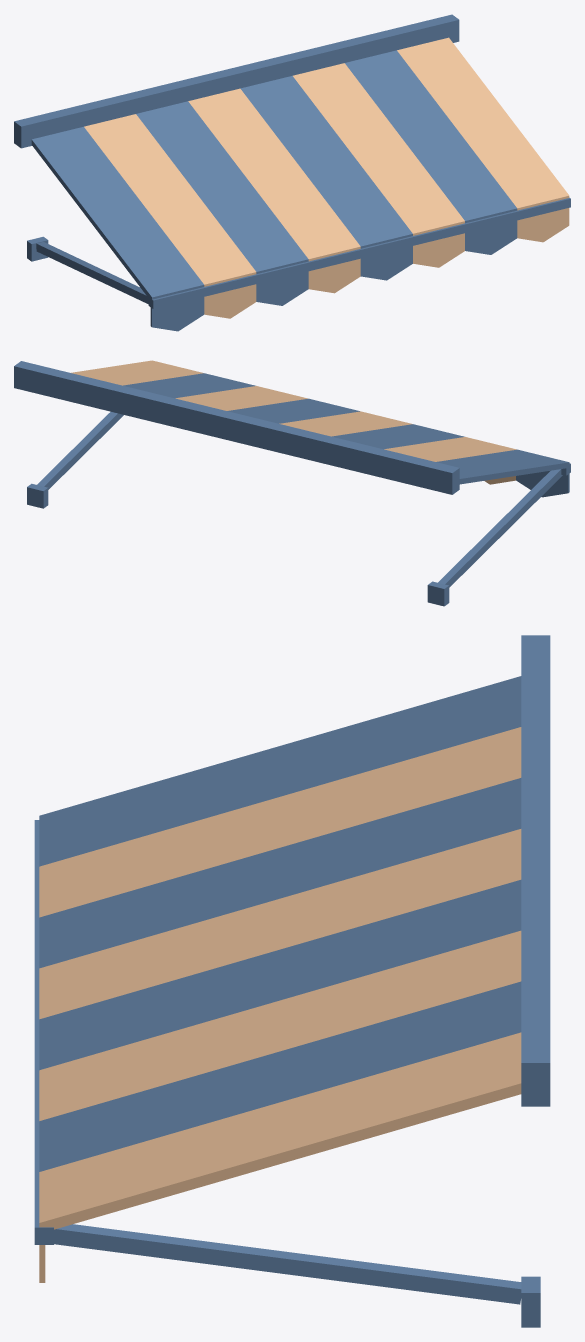
File: Awning.fbx
3 renders of one model, top to bottom at view 1: azimuth 30°, elevation 25°; view 2: azimuth 150°, elevation 25°; view 3: azimuth 270°, elevation 25°, orthographic. The views are drawn at different scales.
Visible parts, largest first — view 1: Awning; view 2: Awning; view 3: Awning.
Part boxes in pixels (box(x1,y1,x2,y2)): Awning: box(14, 14, 570, 331); Awning: box(14, 360, 570, 606); Awning: box(34, 635, 550, 1327).
Bounding box in the file's own units: 2.1 × 0.63 × 1.07.
Materials: 1 (1 with a texture image).
